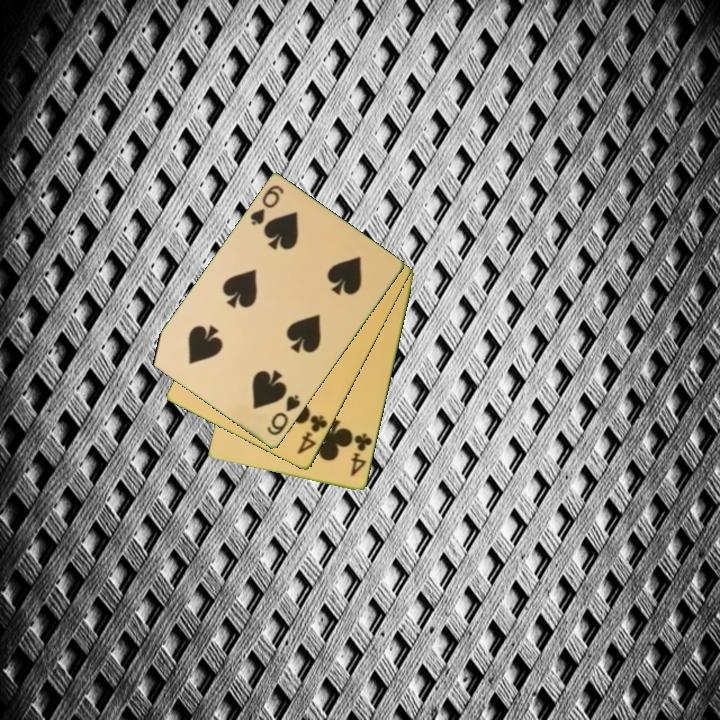4c: (294, 411, 331, 458), (347, 430, 375, 479)
6s: (263, 391, 303, 439), (247, 182, 287, 229)
